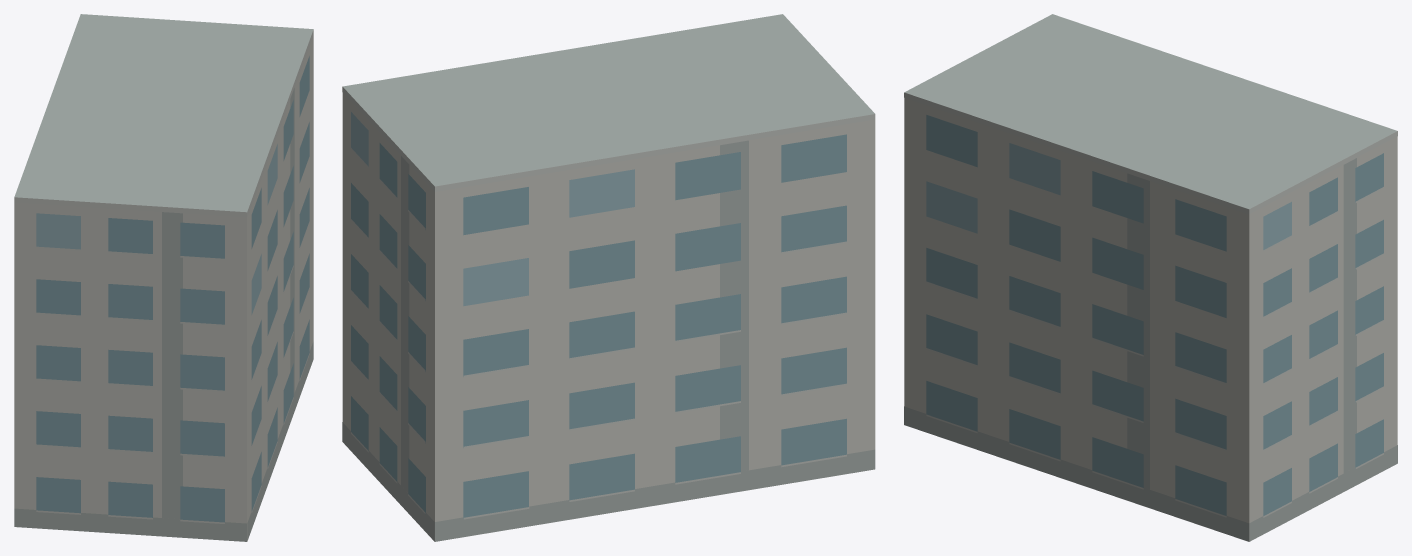
The model's file is residential-5eb655fb-5897-493d-9bf2-5fab56de84c8.glb.
The picture shows the model from 3 angles, left to right: view 1: azimuth 30°, elevation 25°; view 2: azimuth 150°, elevation 25°; view 3: azimuth 270°, elevation 25°; orthographic projection. The views are drawn at different scales.
Parts seen in each view (by area): view 1: residential-5eb655fb-5897-493d-9bf2-5fab56de84c8.tmp; view 2: residential-5eb655fb-5897-493d-9bf2-5fab56de84c8.tmp; view 3: residential-5eb655fb-5897-493d-9bf2-5fab56de84c8.tmp.
Part boxes in pixels (x1,y1,x2,y2): residential-5eb655fb-5897-493d-9bf2-5fab56de84c8.tmp: [14, 14, 313, 541]; residential-5eb655fb-5897-493d-9bf2-5fab56de84c8.tmp: [342, 14, 875, 541]; residential-5eb655fb-5897-493d-9bf2-5fab56de84c8.tmp: [904, 14, 1397, 541].
Size of the model in its own units: 19.22 by 15.25 by 20.53.
